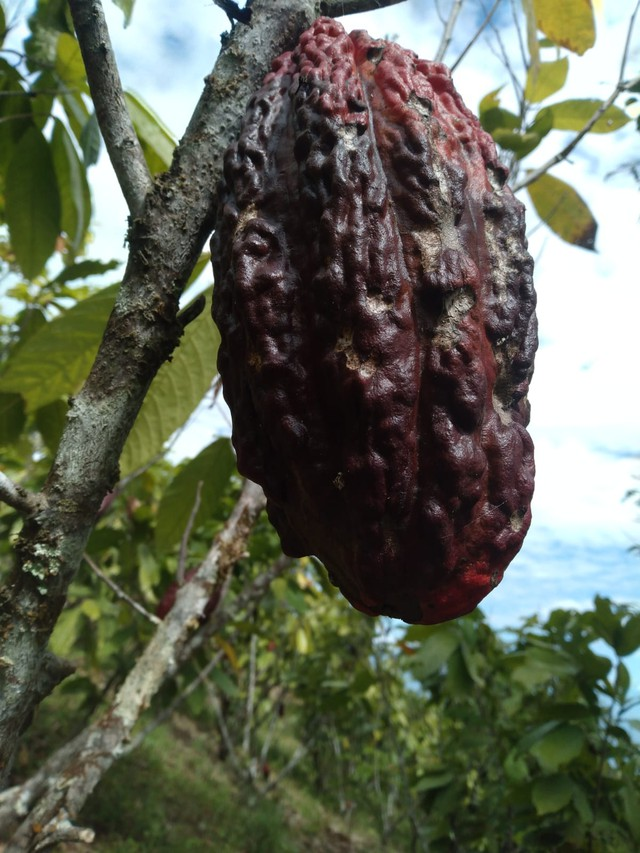phytophthora palmivora: (207, 14, 546, 628)
